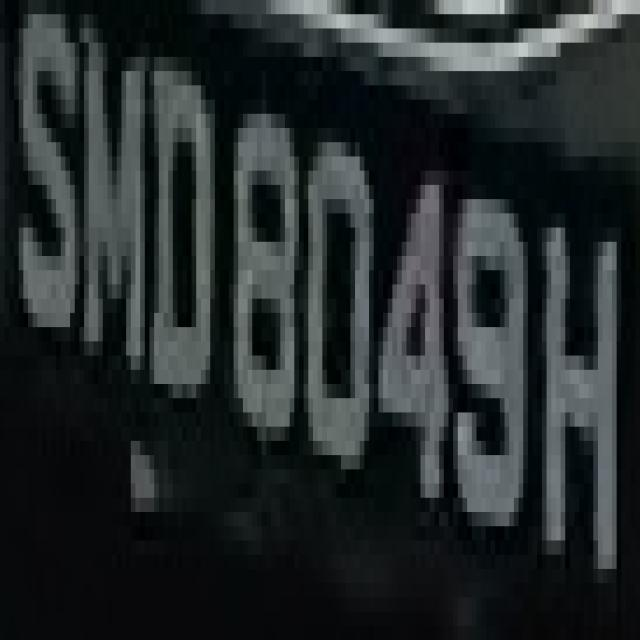0: (304, 57, 378, 498)
4: (369, 114, 453, 526)
8: (229, 71, 308, 469)
9: (444, 156, 528, 569)
D: (145, 42, 215, 426)
H: (532, 142, 622, 612)
M: (75, 29, 149, 398)
S: (14, 28, 79, 356)
